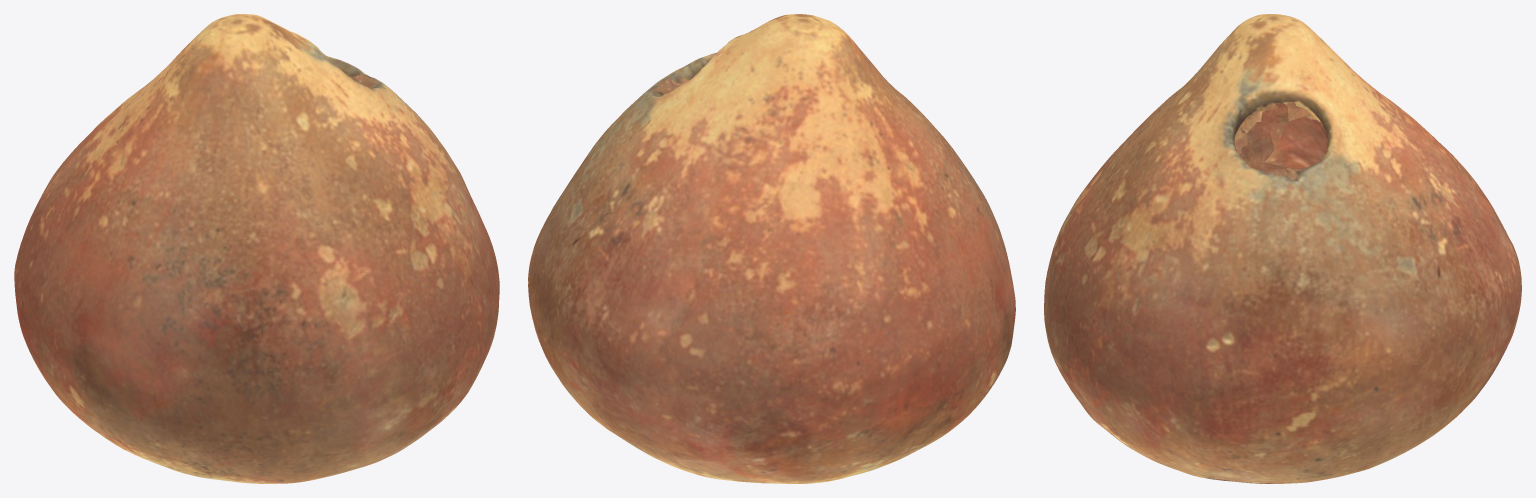
File: Ark_HM_1288_HI.glb
3 renders of one model, left to right at view 1: azimuth 30°, elevation 25°; view 2: azimuth 150°, elevation 25°; view 3: azimuth 270°, elevation 25°, orthographic. The views are drawn at different scales.
Bounding box in the file's own units: 0.4952 × 0.4833 × 0.4997.
1 material, 1 textured.
